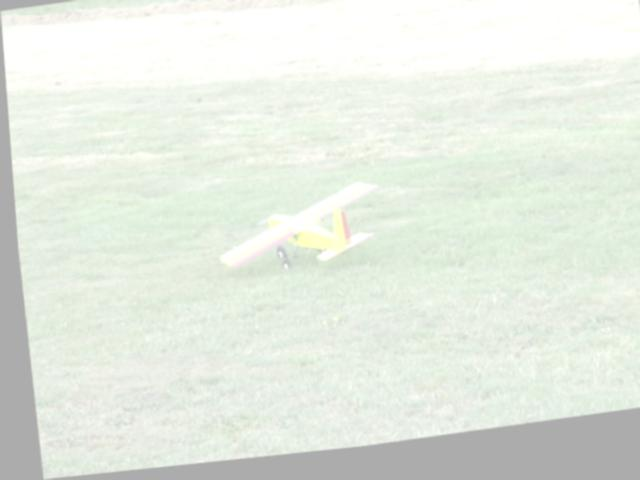plane: (211, 187, 379, 279)
